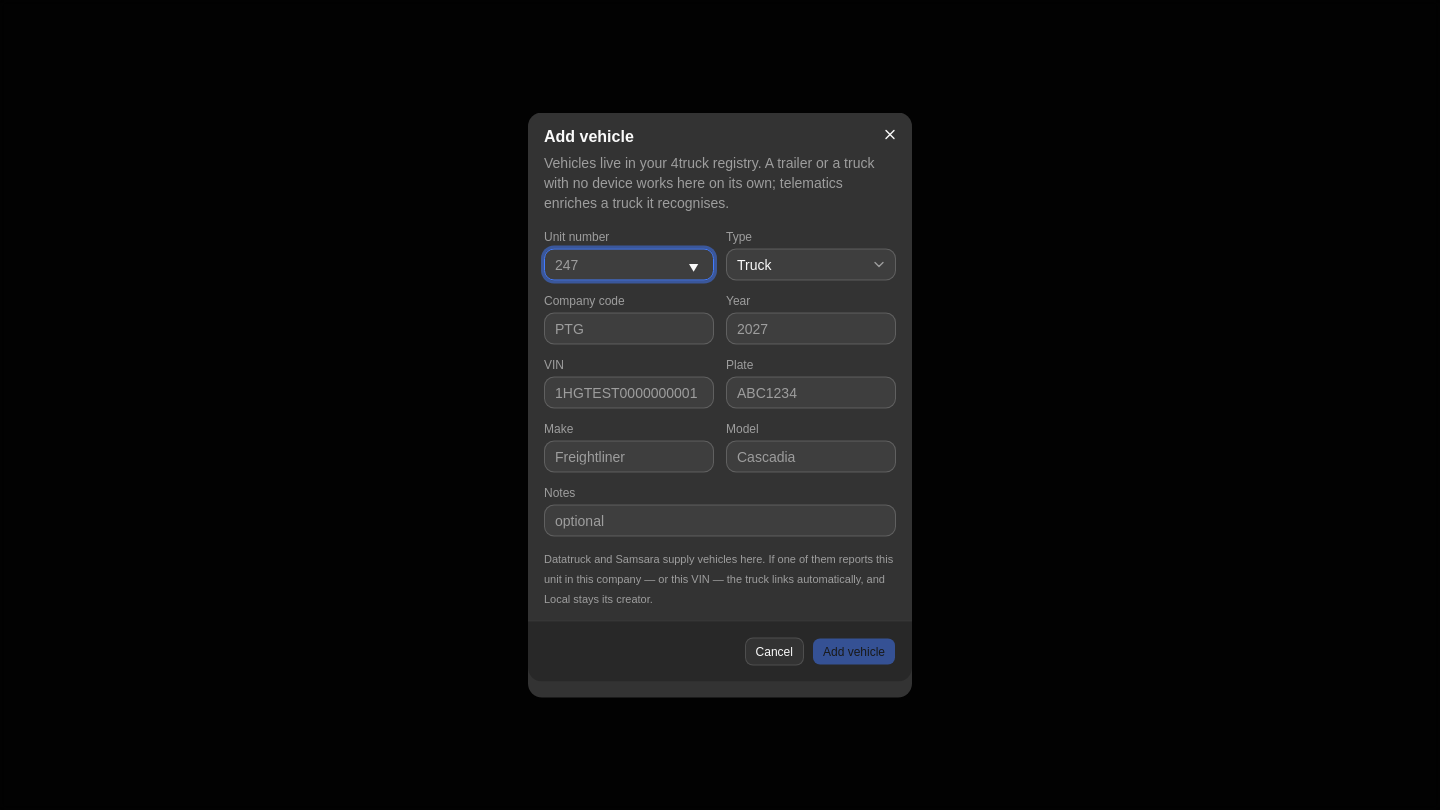
it: Add vehicle — matching the typed identity › catches the same truck arriving under a different number, by VIN
This screenshot has width=1440, height=810.
Type "901" into the field with placeholder "247". click: (629, 264)
box: [544,248,714,280]
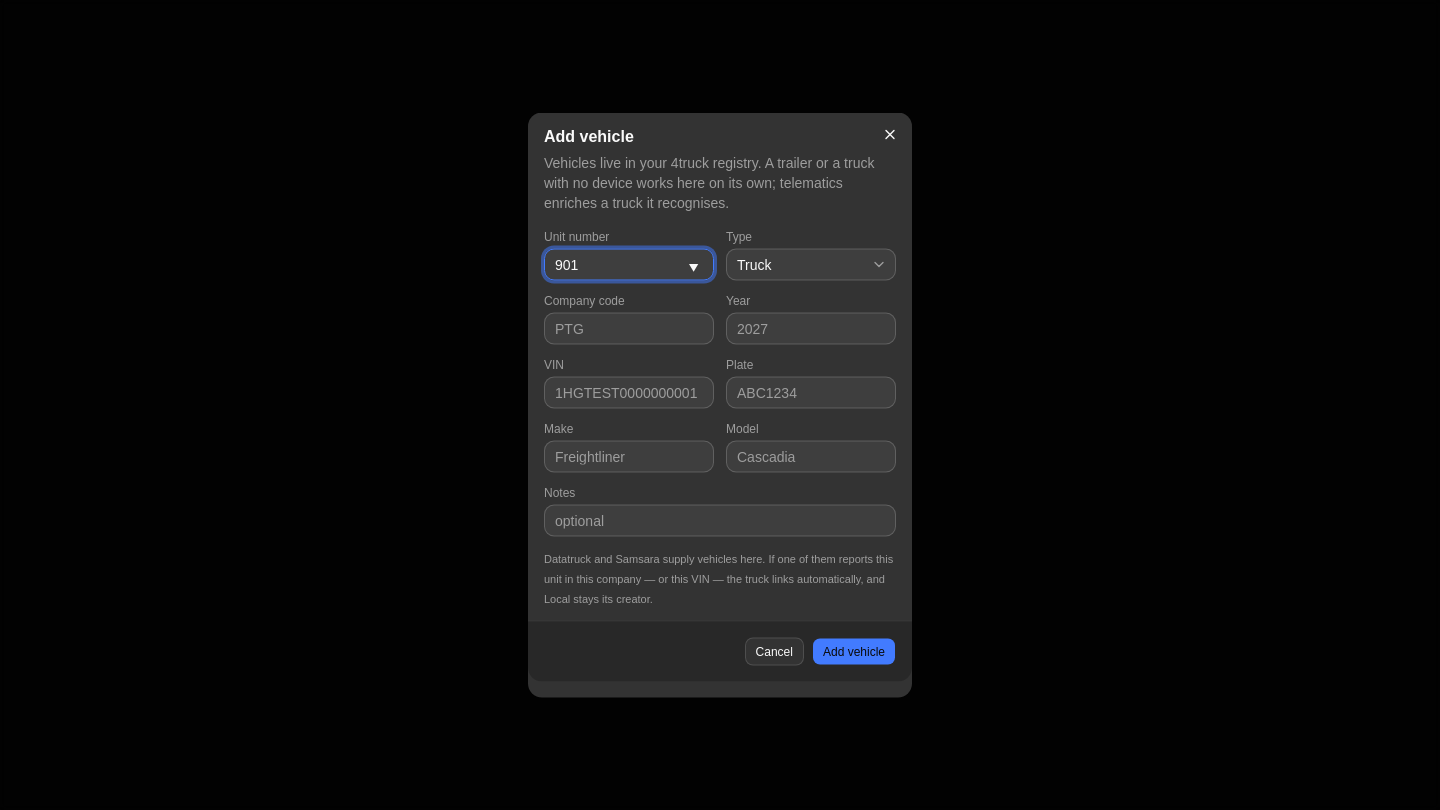
Type "1HGTEST0000000009" into the field with placeholder "1HGTEST0000000001". click: (629, 392)
box: [544,376,714,408]
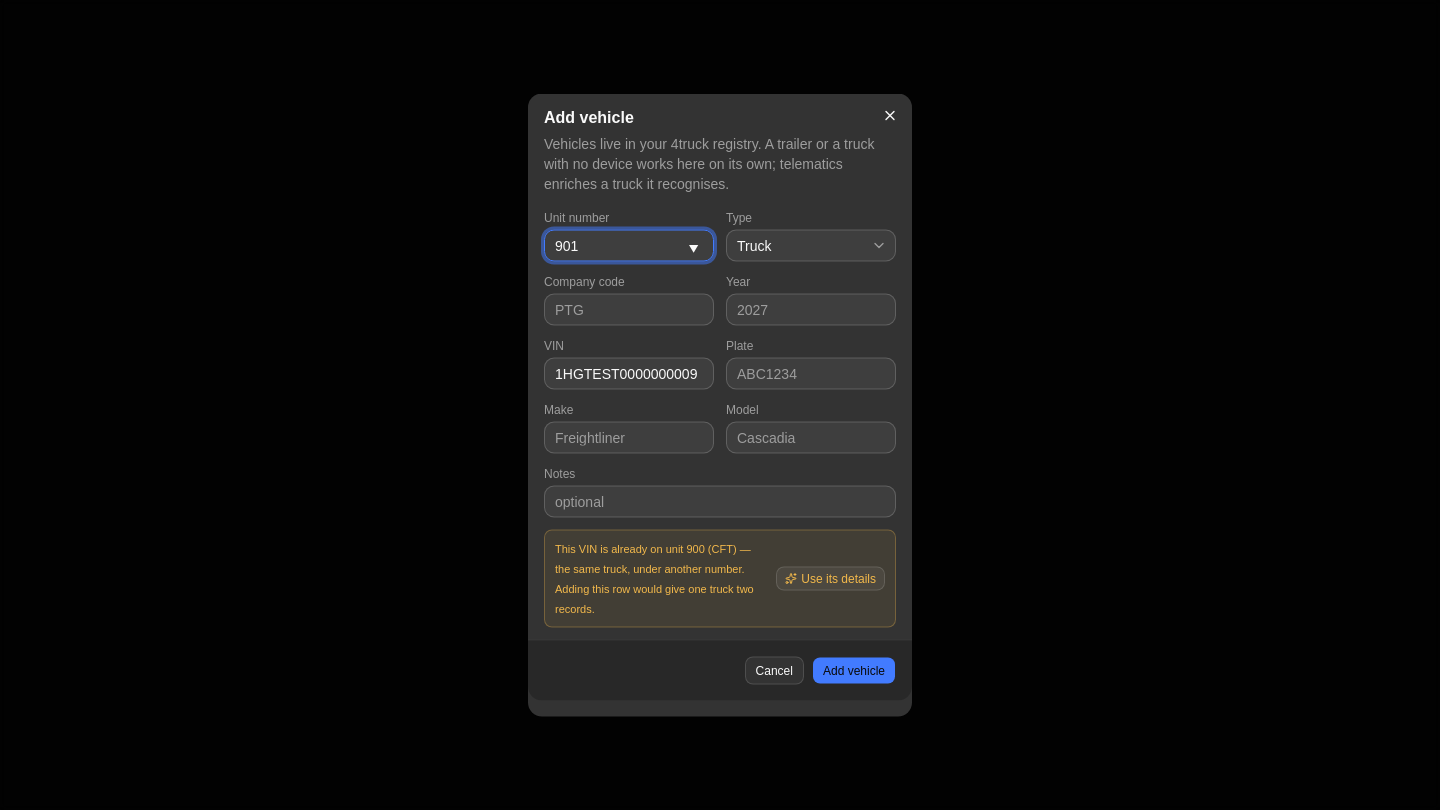
expect the text "same truck, under another number" is shown: met, box [555,542,754,614]
expect the text "900" is shown: met, box [686,542,705,554]
